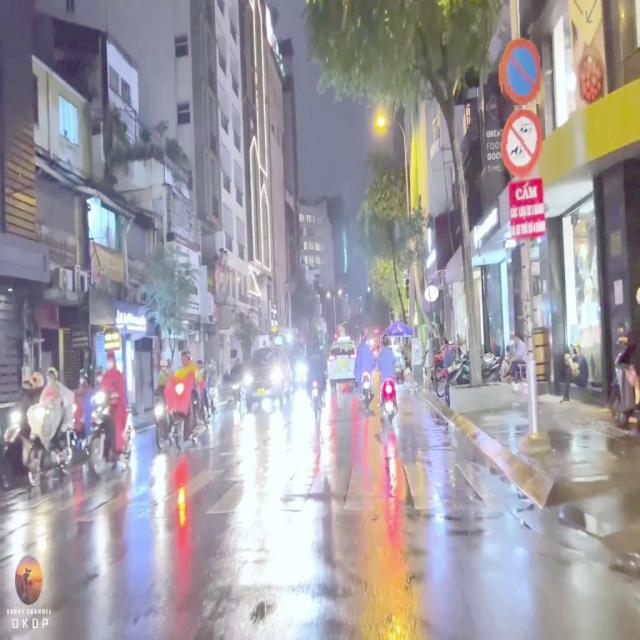cam_cac_loai_xe_3_banh: (501, 110, 542, 176)
cam_do_xe: (499, 40, 540, 106)
